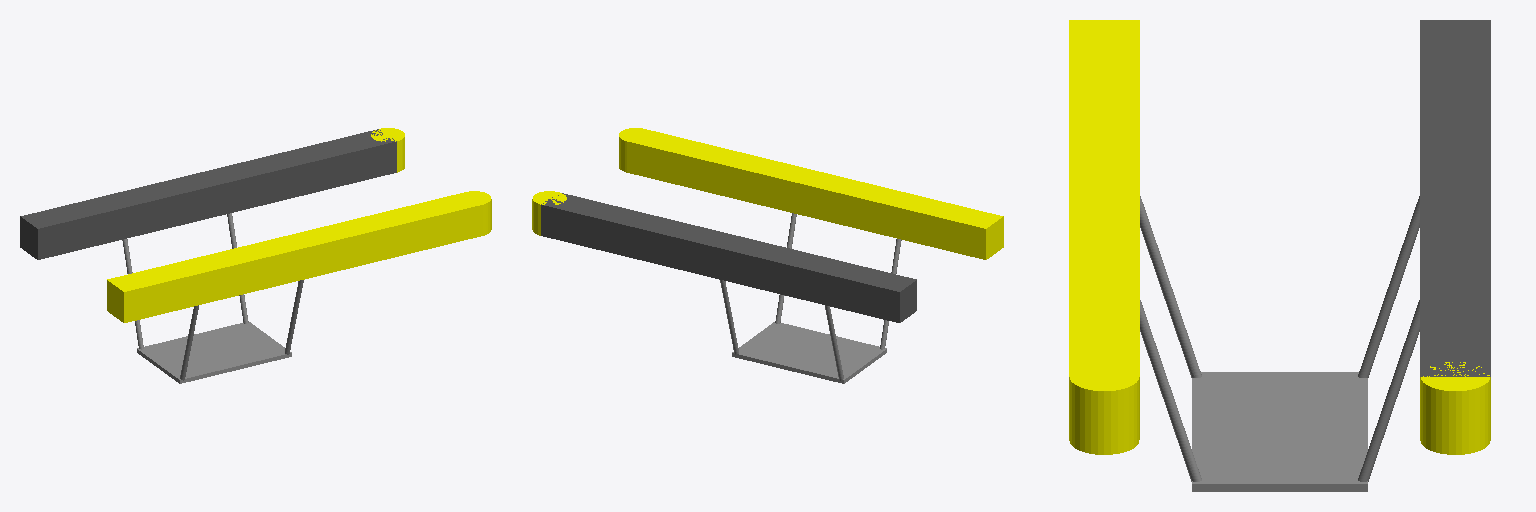
The robot description file, URDF, robot "Ship":
<?xml version="1.0"?>
<robot name="Ship">
  <link name="Ship">
    <visual>
      <geometry>
        <box size="4.8 .4 .4"/>
      </geometry>
      <origin rpy="0 0 0" xyz="0 1.0 0"/>
      <material name="yellow">
        <color rgba="0.4 0.4 0.4 1"/>
      </material>
    </visual>
  </link>

  <link name="platform">
    <visual>
      <geometry>
        <box size="1.5 1.0 .05"/>
      </geometry>
      <origin rpy="0 0 0" xyz="-0.5 0 -1.5"/>
      <material name="grey">
        <color rgba="0.6 0.6 0.6 1"/>
      </material>
    </visual>
  </link>

  <joint name="base_to_platform" type="fixed">
    <parent link="Ship"/>
    <child link="platform"/>
    <origin xyz="0 0 0"/>
  </joint>

  <link name="pillar1">
    <visual>
      <geometry>
        <cylinder length="1.6" radius="0.03"/>
      </geometry>
      <origin rpy="-0.3 0 0" xyz="-1.2 0.7 -0.75"/>
      <material name="grey"/>
    </visual>
  </link>

  <joint name="base_to_pillar1" type="fixed">
    <parent link="Ship"/>
    <child link="pillar1"/>
    <origin xyz="0 0 0"/>
  </joint>

<link name="pillar2">
  <visual>
    <geometry>
      <cylinder length="1.6" radius="0.03"/>
    </geometry>
    <origin rpy="-0.3 0 0" xyz="0.2 0.7 -0.75"/>
    <material name="grey"/>
  </visual>
</link>

<joint name="base_to_pillar2" type="fixed">
  <parent link="Ship"/>
  <child link="pillar2"/>
  <origin xyz="0 0 0"/>
</joint>

<link name="pillar3">
  <visual>
    <geometry>
      <cylinder length="1.6" radius="0.03"/>
    </geometry>
    <origin rpy="0.3 0 0" xyz="-1.2 -0.7 -0.75"/>
    <material name="grey"/>
  </visual>
</link>

<joint name="base_to_pillar3" type="fixed">
  <parent link="Ship"/>
  <child link="pillar3"/>
  <origin xyz="0 0 0"/>
</joint>

<link name="pillar4">
  <visual>
    <geometry>
      <cylinder length="1.6" radius="0.03"/>
    </geometry>
    <origin rpy="0.3 0 0" xyz="0.2 -0.7 -0.75"/>
    <material name="grey"/>
  </visual>
</link>

<joint name="base_to_pillar4" type="fixed">
  <parent link="Ship"/>
  <child link="pillar4"/>
  <origin xyz="0 0 0"/>
</joint>

  <link name="left_hull">
    <visual>
      <geometry>
        <box size="4.8 .4 .4"/>
      </geometry>
      <origin rpy="0 0 0" xyz="0 -1.0 0"/>
      <material name="yellow">
        <color rgba="1 1 0 1"/>
      </material>
    </visual>
  </link>

  <joint name="base_to_left_hull" type="fixed">
    <parent link="Ship"/>
    <child link="left_hull"/>
    <origin xyz="0 0 0"/>
  </joint>

  <link name="right_nose">
    <visual>
      <geometry>
        <cylinder length="0.4" radius="0.2"/>
      </geometry>
      <origin rpy="0 0 0" xyz="2.4 1.0 0"/>
      <material name="yellow">
        <color rgba="1 1 0 1"/>
      </material>
    </visual>
  </link>
  
  <joint name="base_to_r_nose" type="fixed">
    <parent link="Ship"/>
    <child link="right_nose"/>
    <origin xyz="0 0 0"/>
  </joint>

  <link name="left_nose">
    <visual>
      <geometry>
        <cylinder length="0.4" radius="0.2"/>
      </geometry>
      <origin rpy="0 0 0" xyz="2.4 -1.0 0"/>
      <material name="yellow">
        <color rgba="1 1 0 1"/>
      </material>
    </visual>
 </link>

 <joint name="base_to_l_nose" type="fixed">
   <parent link="Ship"/>
   <child link="left_nose"/>
   <origin xyz="0 0 0"/>
 </joint>
</robot>

--- Facts derived from the render (not from the file) ---
The picture shows the robot from 3 angles, left to right: view 1: azimuth 30°, elevation 25°; view 2: azimuth 150°, elevation 25°; view 3: azimuth 270°, elevation 25°; orthographic projection.
Model Ship with 9 links and 8 joints (8 fixed), rooted at Ship, posed every joint at zero.
Links seen in each view (by area): view 1: Ship, left_hull, platform, left_nose, right_nose; view 2: left_hull, Ship, platform, right_nose, left_nose; view 3: Ship, left_hull, platform, left_nose, right_nose, pillar2, pillar4, pillar1, pillar3.
Link boxes in pixels (left/top/right/bottom): Ship: left=20, top=129, right=396, bottom=259; left_hull: left=107, top=193, right=482, bottom=322; platform: left=137, top=322, right=291, bottom=383; left_nose: left=457, top=191, right=491, bottom=235; right_nose: left=371, top=128, right=404, bottom=172; left_hull: left=627, top=129, right=1003, bottom=259; Ship: left=541, top=193, right=916, bottom=322; platform: left=732, top=322, right=886, bottom=383; right_nose: left=532, top=191, right=566, bottom=235; left_nose: left=619, top=128, right=652, bottom=172; Ship: left=1420, top=20, right=1490, bottom=376; left_hull: left=1069, top=20, right=1139, bottom=376; platform: left=1192, top=372, right=1367, bottom=491; left_nose: left=1069, top=362, right=1139, bottom=454; right_nose: left=1420, top=362, right=1490, bottom=454; pillar2: left=1358, top=300, right=1419, bottom=481; pillar4: left=1140, top=300, right=1201, bottom=481; pillar1: left=1358, top=196, right=1419, bottom=377; pillar3: left=1140, top=196, right=1201, bottom=377.
Size in the robot's own frame: 5 by 2.4 by 1.73 metres.
Geometry: primitives only (box / cylinder / sphere), no mesh files.